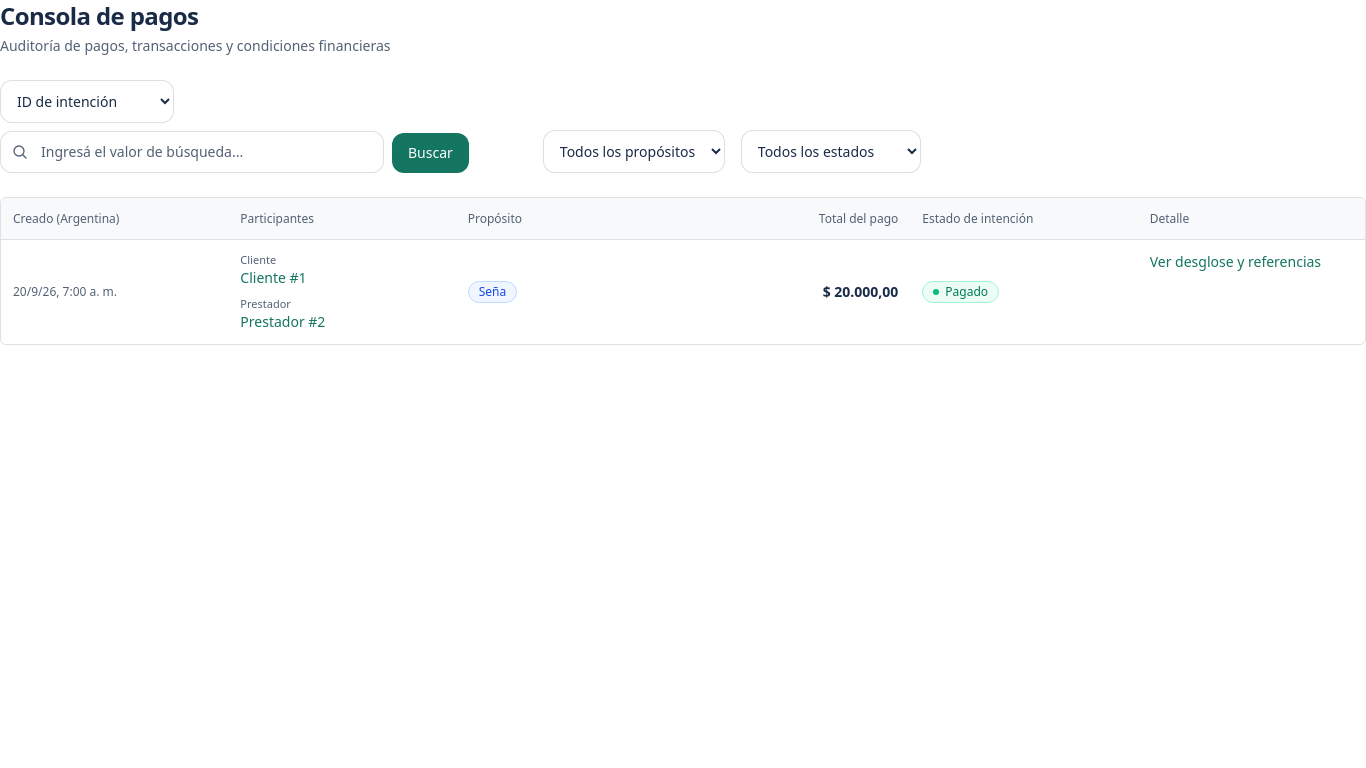
Test: PaymentsView › renders the current payment intent and opens its API-backed details
Expected: the heading "Consola de pagos" is shown, [0,0,198,32]
Expected: the link "Cliente #1" is shown, [240,268,307,287]
Click the button "Ver desglose y referencias" at (1235, 262), box [1150,252,1321,272]
(page scrolled)
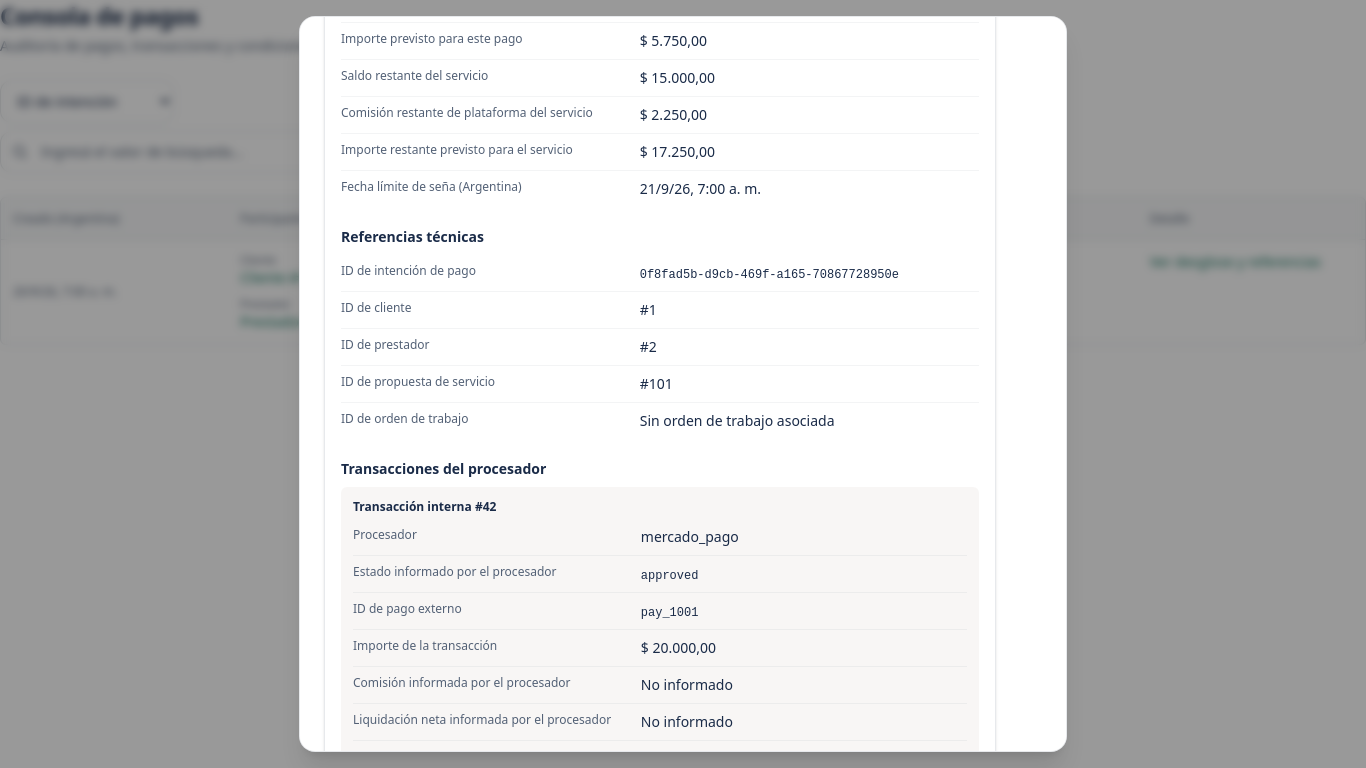
Result: the text "0f8fad5b-d9cb-469f-a165-70867728950e" is shown at [640,268,899,282]
Result: the text "ID de propuesta de servicio" is shown at [341,373,495,390]
